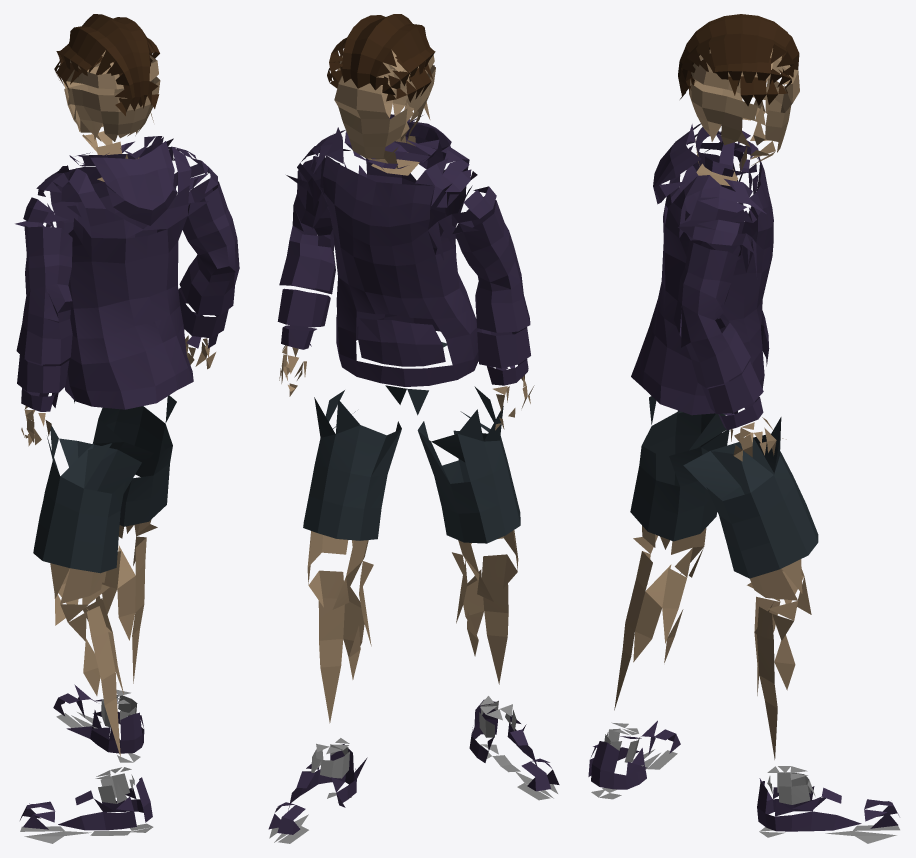
The model's file is person_11_idle.fbx.
3 renders of one model, left to right at view 1: azimuth 30°, elevation 25°; view 2: azimuth 150°, elevation 25°; view 3: azimuth 270°, elevation 25°, orthographic. The views are drawn at different scales.
Parts seen in each view (by area): view 1: Casual_Feet; view 2: Casual_Feet; view 3: Casual_Feet.
Part boxes in pixels (box(x1,y1,x2,y2)): Casual_Feet: box(15, 14, 239, 843); Casual_Feet: box(268, 14, 559, 843); Casual_Feet: box(588, 14, 899, 843).
Size of the model in its own units: 0.3291 by 0.9979 by 0.3538.
